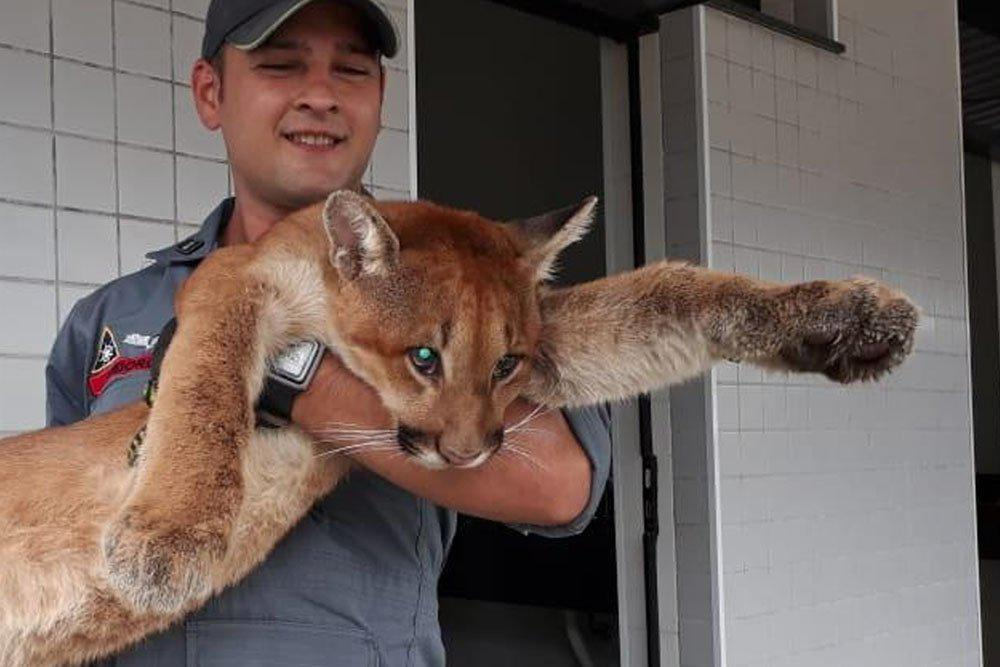OncaParda: (12, 190, 933, 634)
